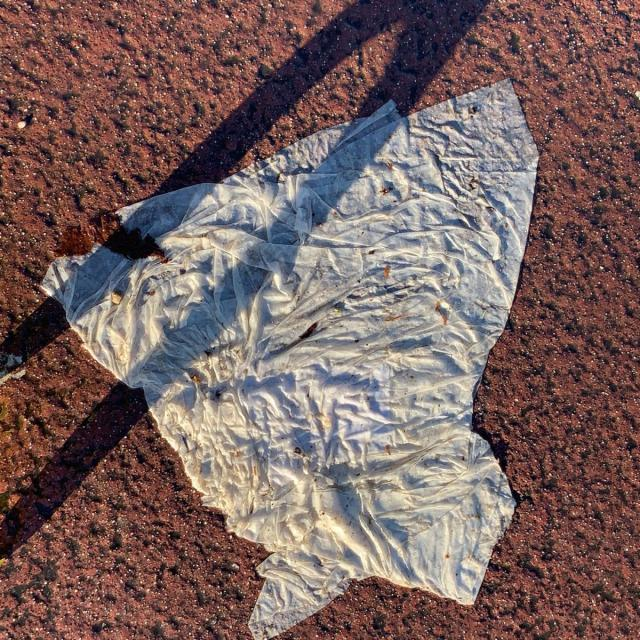Paper: (37, 77, 541, 640)
